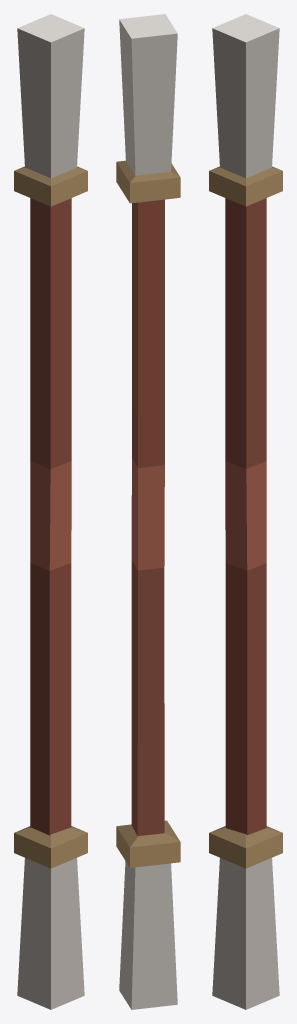
The model's file is staff_1.glb.
3 renders of one model, left to right at view 1: azimuth 90°, elevation 25°; view 2: azimuth 150°, elevation 25°; view 3: azimuth 270°, elevation 25°, orthographic.
Visible parts, largest first — view 1: staff_1.001; view 2: staff_1.001; view 3: staff_1.001.
Part boxes in pixels (left/top/right/bottom): staff_1.001: left=14, top=14, right=87, bottom=1009; staff_1.001: left=116, top=14, right=180, bottom=1009; staff_1.001: left=209, top=14, right=282, bottom=1009.
Size of the model in its own units: 0.0691 by 1 by 0.0691.
Materials: 1 (1 with a texture image).
